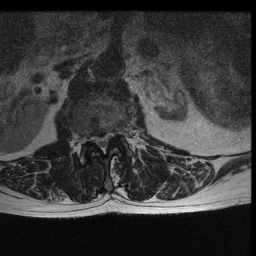CCS_normal: (99, 125, 106, 159)
LFS_stenosis: (113, 121, 120, 143)
LLS_stenosis: (106, 124, 113, 149)
RFS_normal: (83, 126, 91, 149)
RLS_normal: (91, 126, 99, 151)
